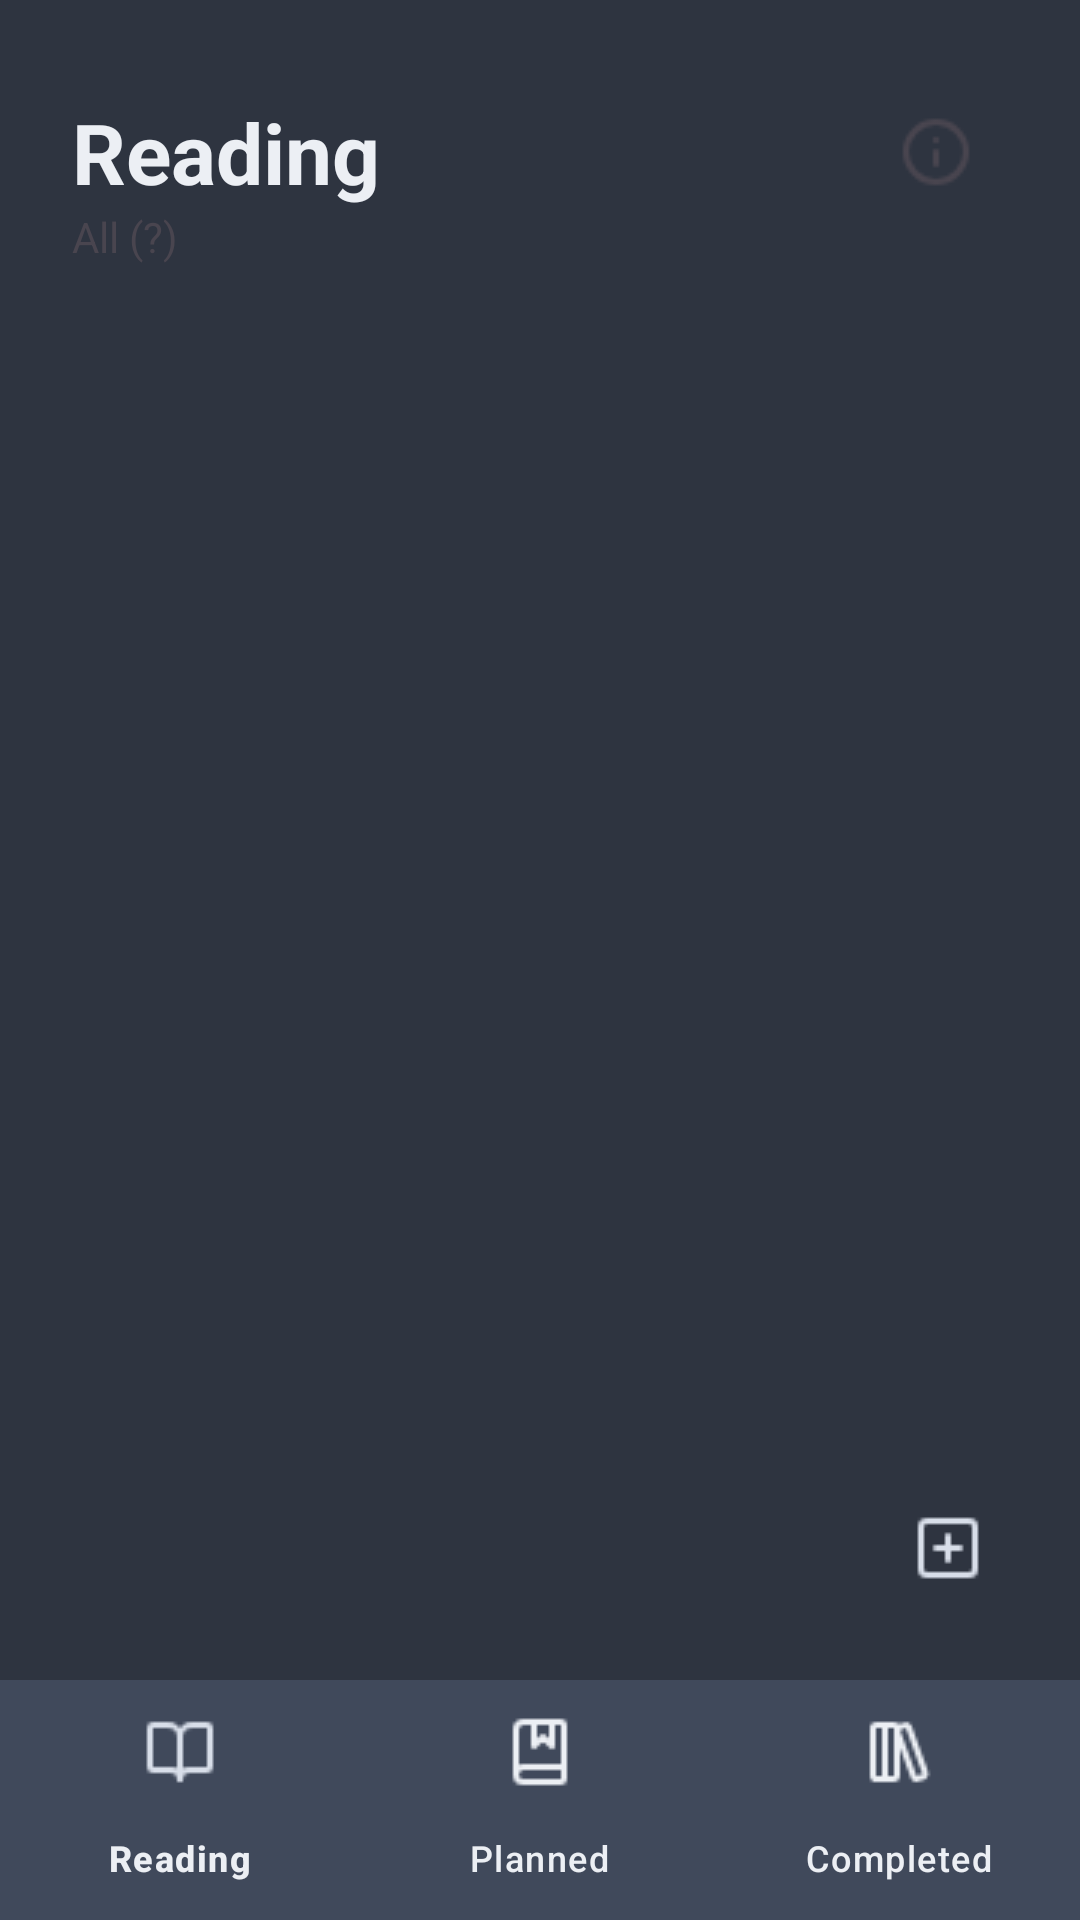

Icons on this 1080*1920 Android screen, each with its box as (x1, y1, x2, y2):
About Application: (904, 120, 968, 184)
Add new item: (917, 1517, 979, 1579)
